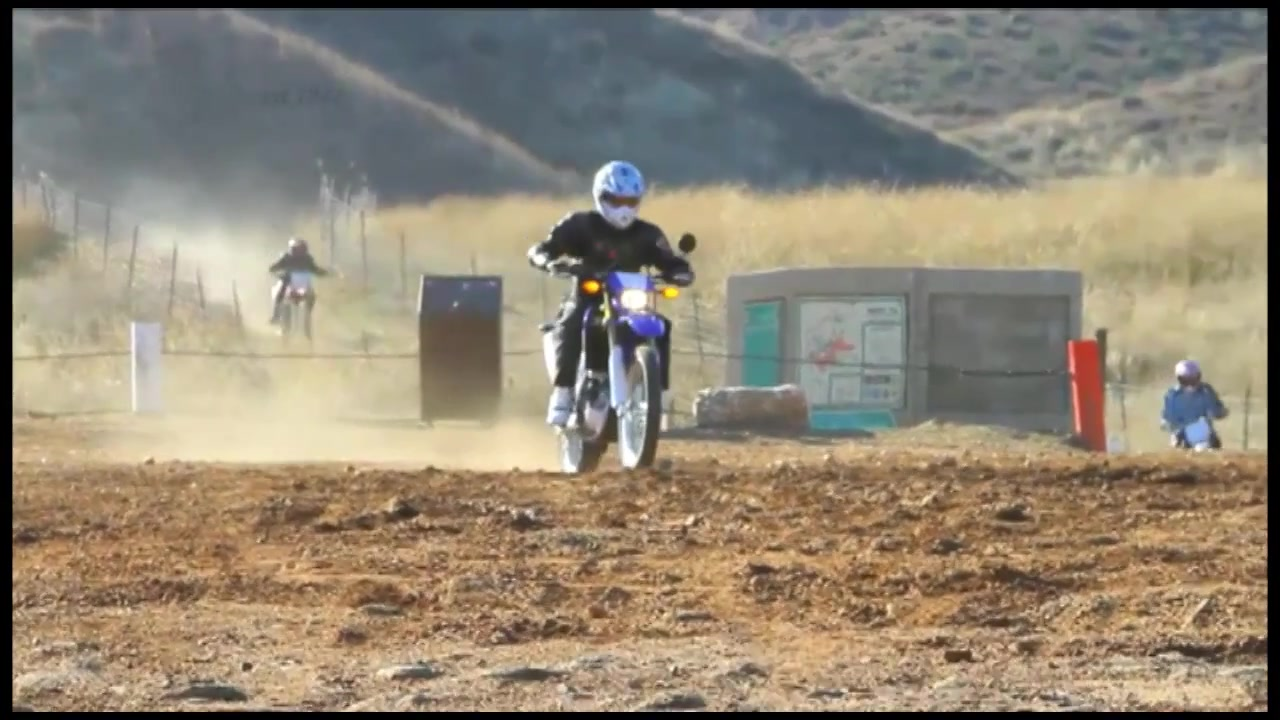motorbike: (551, 232, 701, 474)
